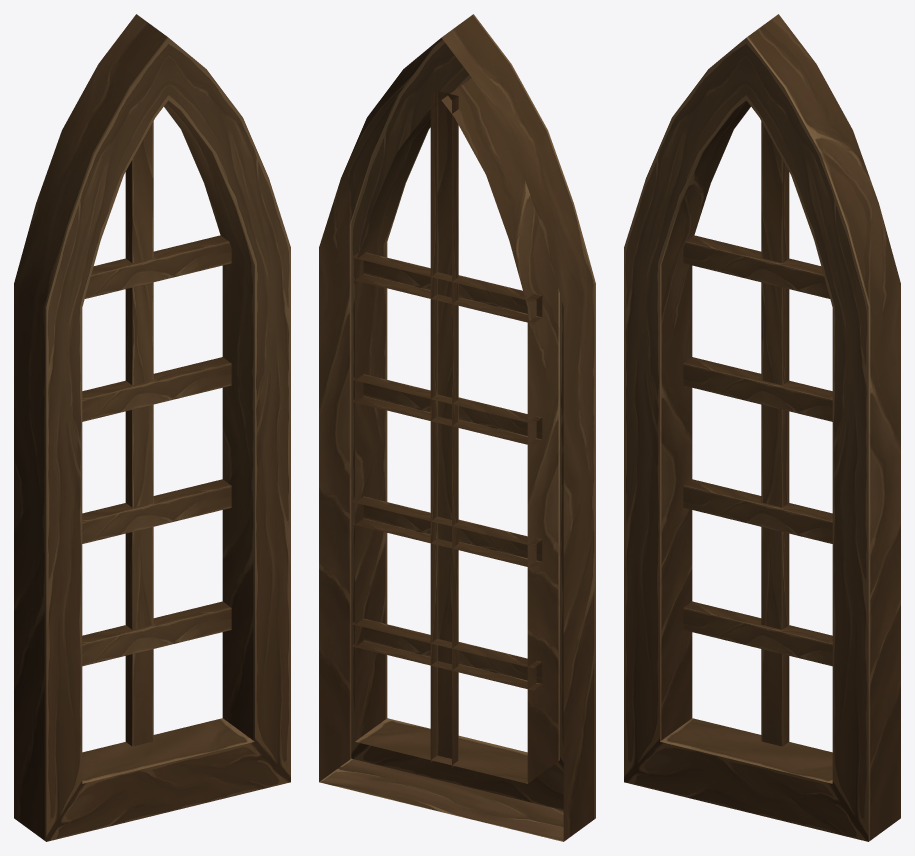
File: Window_3_3.FBX
3 renders of one model, left to right at view 1: azimuth 30°, elevation 25°; view 2: azimuth 150°, elevation 25°; view 3: azimuth 330°, elevation 25°, orthographic.
Parts seen in each view (by area): view 1: Window_3_3; view 2: Window_3_3; view 3: Window_3_3.
Boxes of the visible parts, x1,y1,x2,y2 form: Window_3_3: (14,14,290,841); Window_3_3: (319,14,595,841); Window_3_3: (624,14,900,841).
Bounding box in the file's own units: 628 × 1901 × 144.
